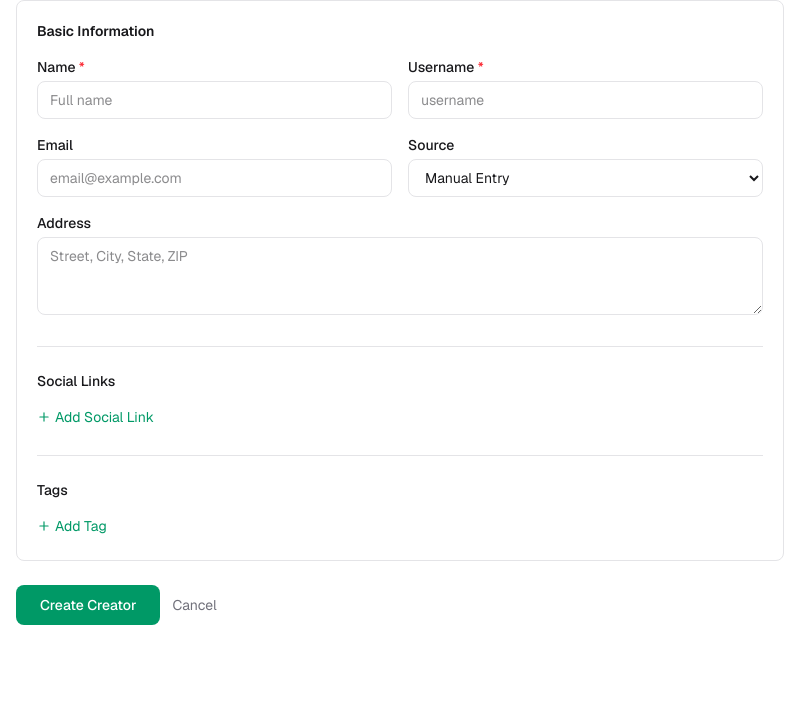
Test: CreatorForm › shows general error for non-field API errors
In the field with placeholder "Full name": (214, 100) [37,81,392,119], type "Alice Chen"
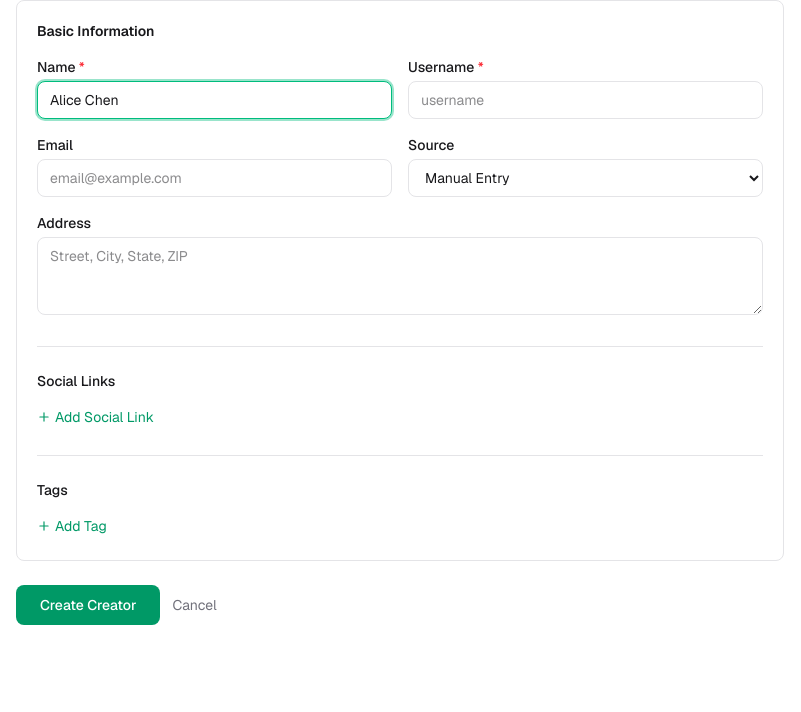
In the field with placeholder "username": (586, 100) [408,81,763,119], type "alicechen"
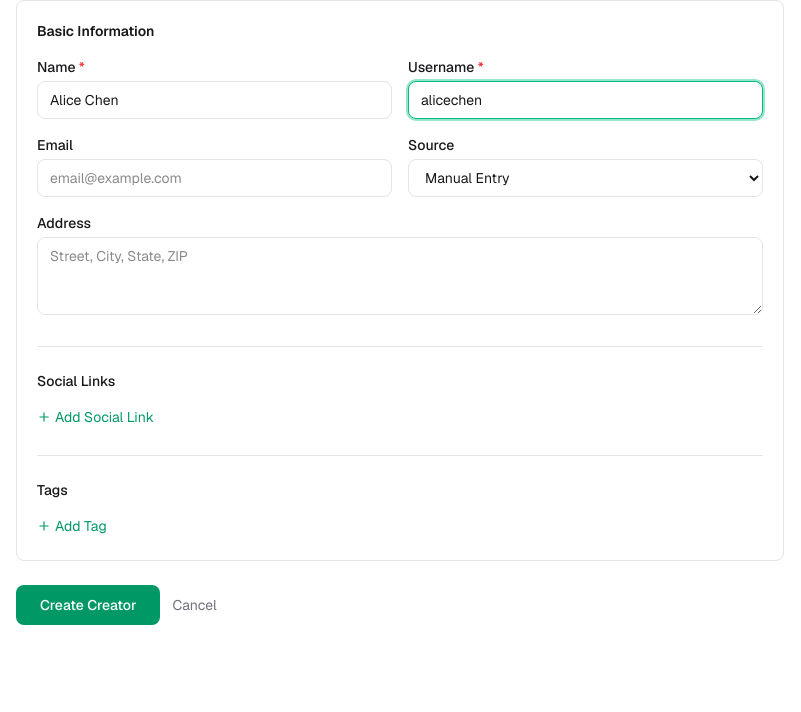
Click the button "Create Creator": (88, 605) [16,585,160,625]
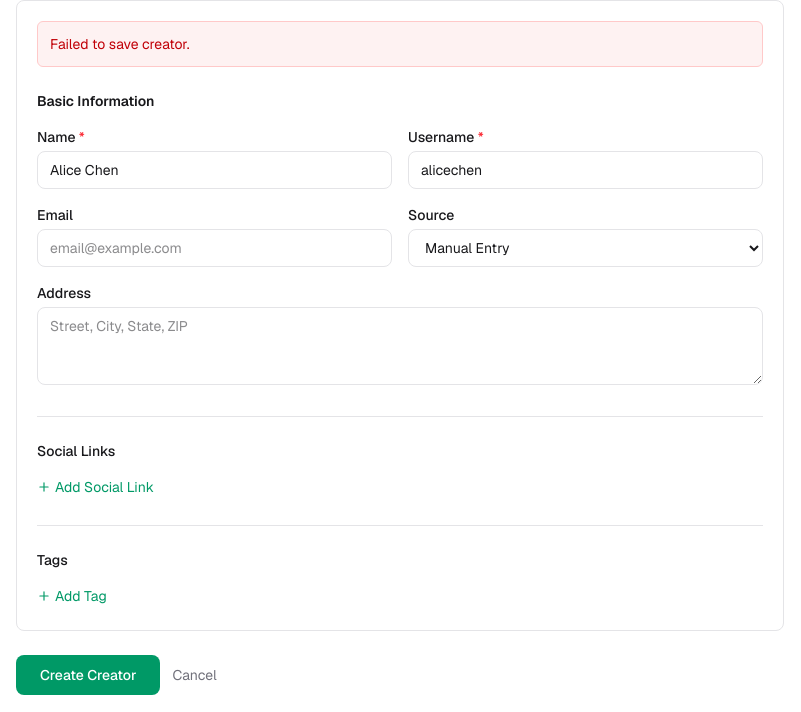
Expected: the text "Failed to save creator." is shown, [37,21,763,67]
